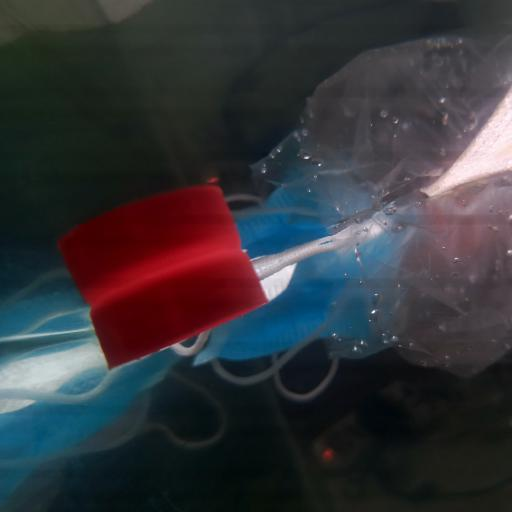bottle_cap: (62, 250, 275, 369)
mask: (179, 192, 408, 384)
plastic_bag: (244, 47, 512, 377)
